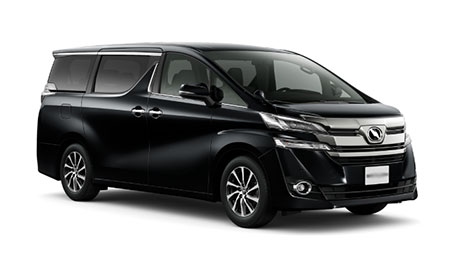van: (36, 39, 421, 228)
